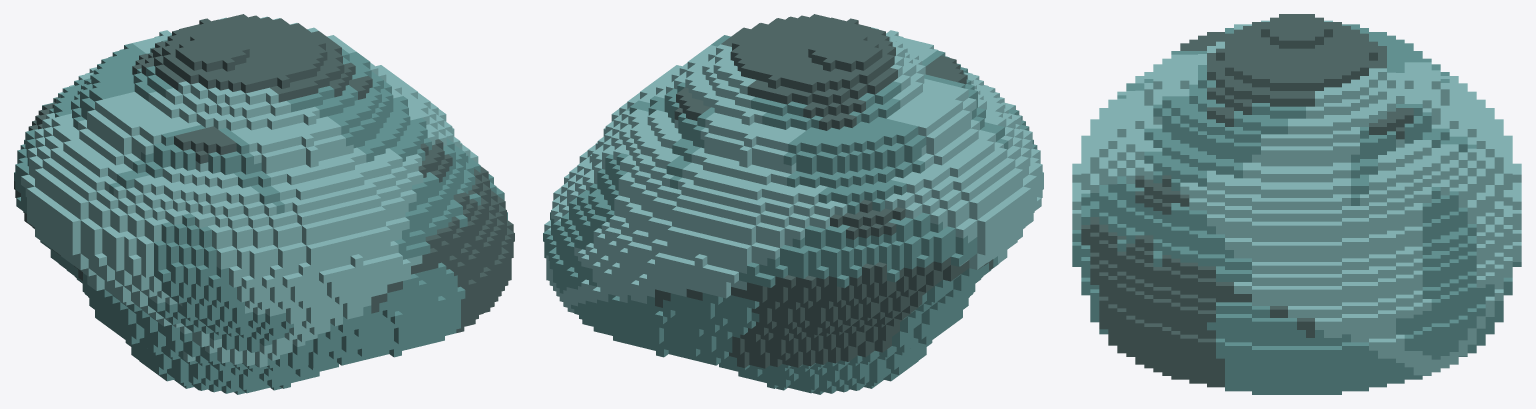
Rendered from Rock4.glb.
3 views of the same model, side by side, from view 1: azimuth 30°, elevation 25°; view 2: azimuth 150°, elevation 25°; view 3: azimuth 270°, elevation 25° (orthographic). The views are drawn at different scales.
Visible parts, largest first — view 1: q0; view 2: q0; view 3: q0.
Part boxes in pixels (x1,y1,x2,y2): q0: (14,14,514,394); q0: (543,14,1043,394); q0: (1072,14,1521,394).
Size of the model in its own units: 54 by 39 by 50.
1 material, 1 textured.
